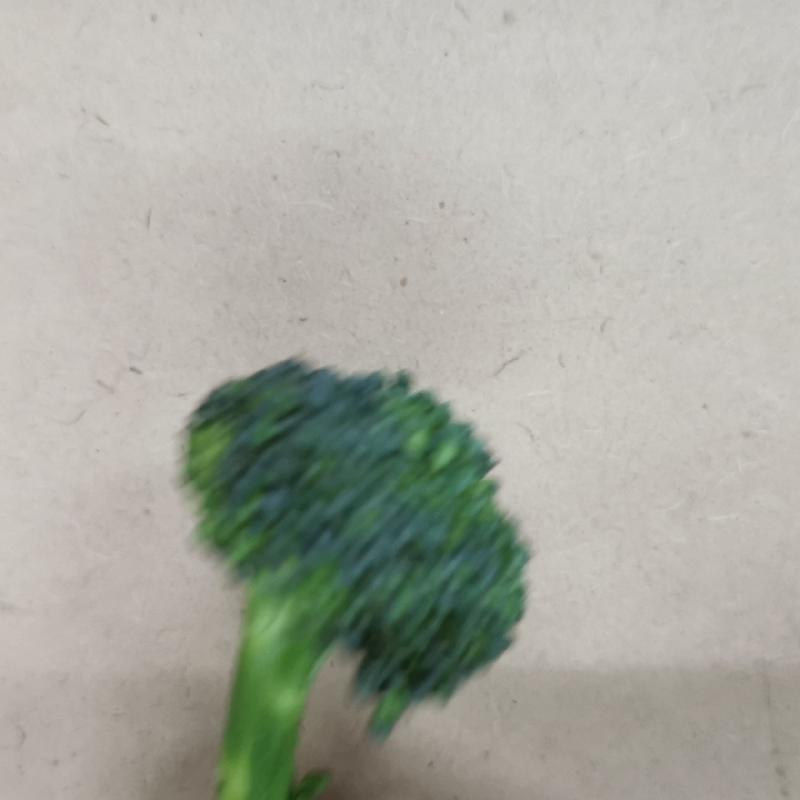broccoli: (173, 354, 535, 800)
